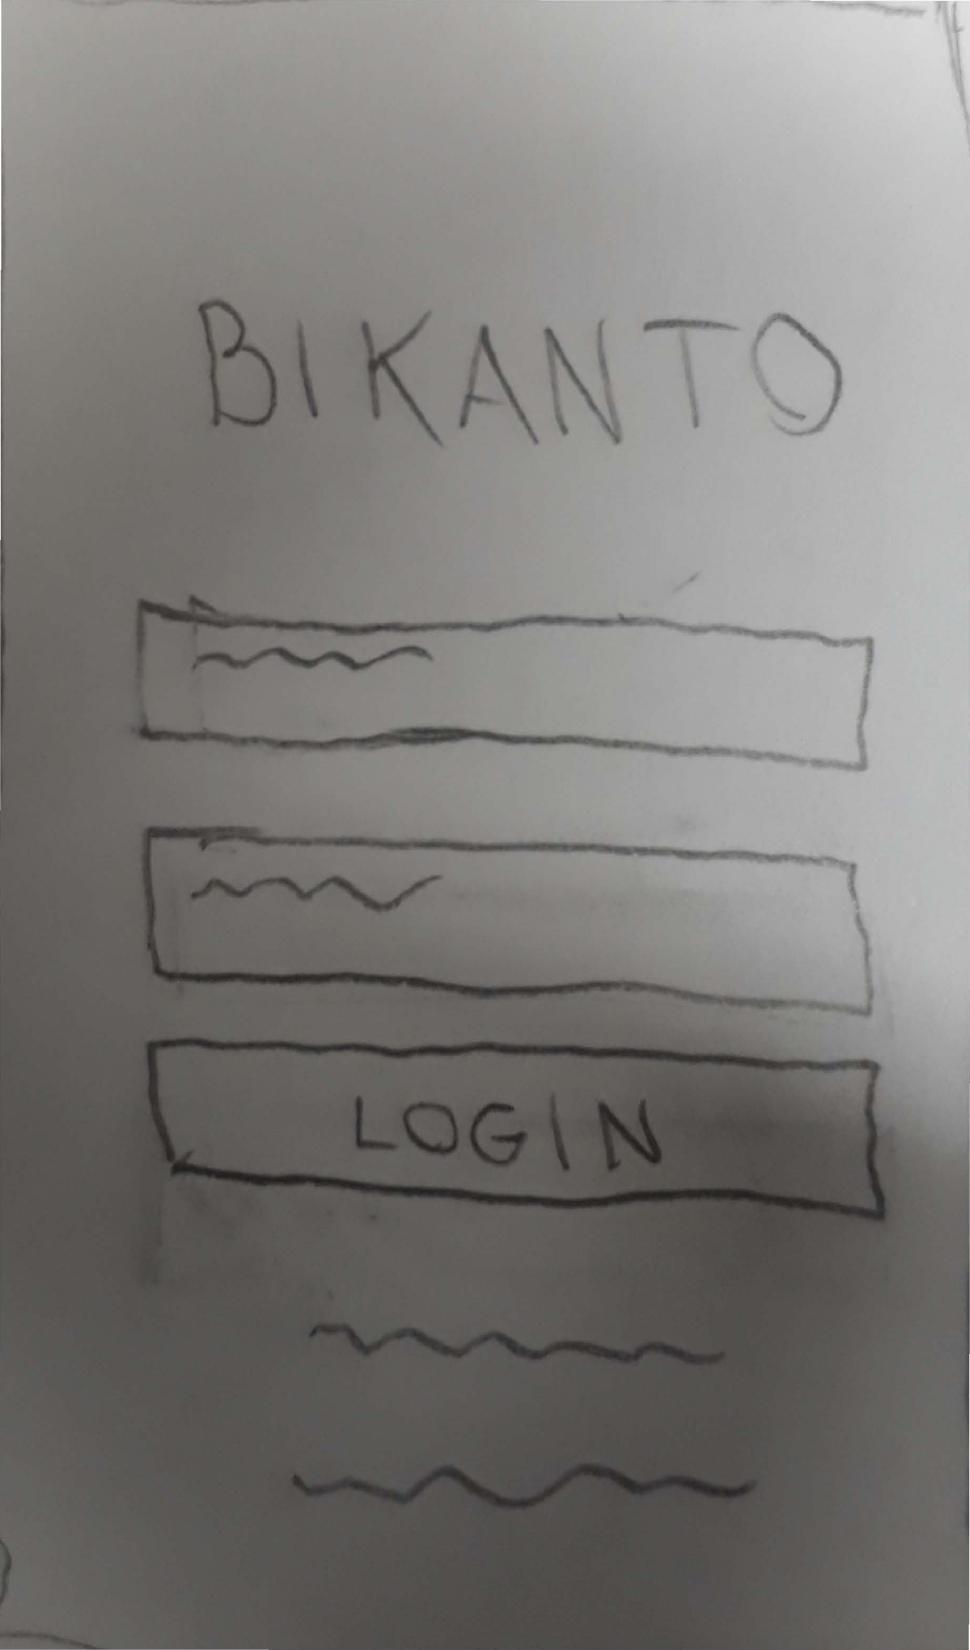Button: (144, 1037, 883, 1215)
Label: (197, 297, 842, 446), (291, 1323, 758, 1509)
Screen: (0, 0, 969, 1649)
TextBox: (144, 827, 876, 1017), (135, 597, 875, 771)
